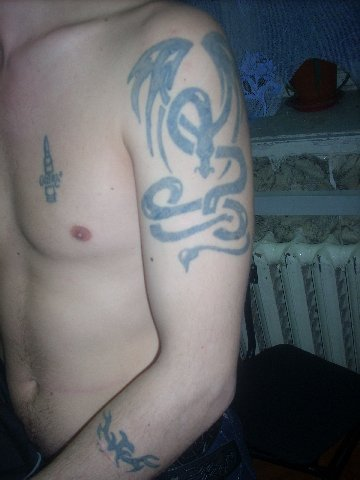tatu7_zmeya: (105, 38, 255, 274)
